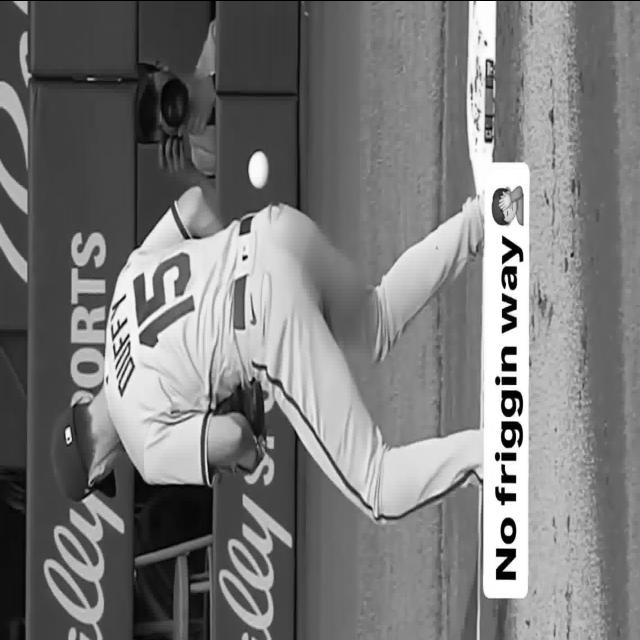base: (466, 0, 496, 193)
baseball: (248, 149, 269, 189)
baseball_glove: (215, 380, 265, 436)
